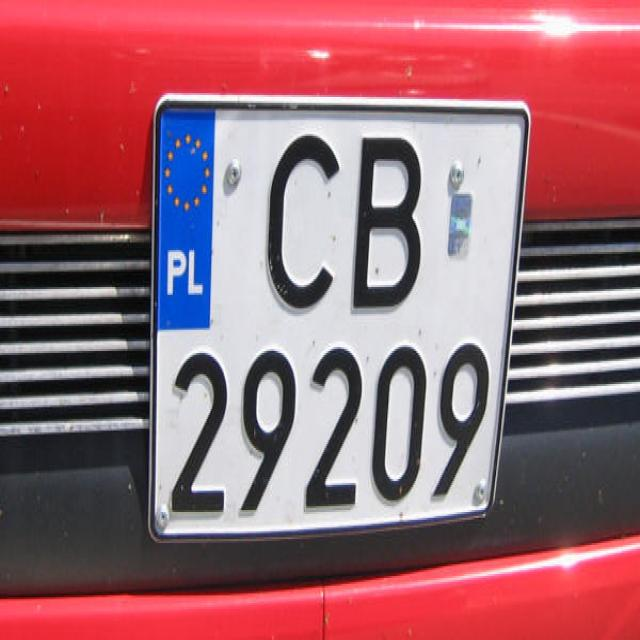pl_license_plate: (153, 107, 524, 533)
